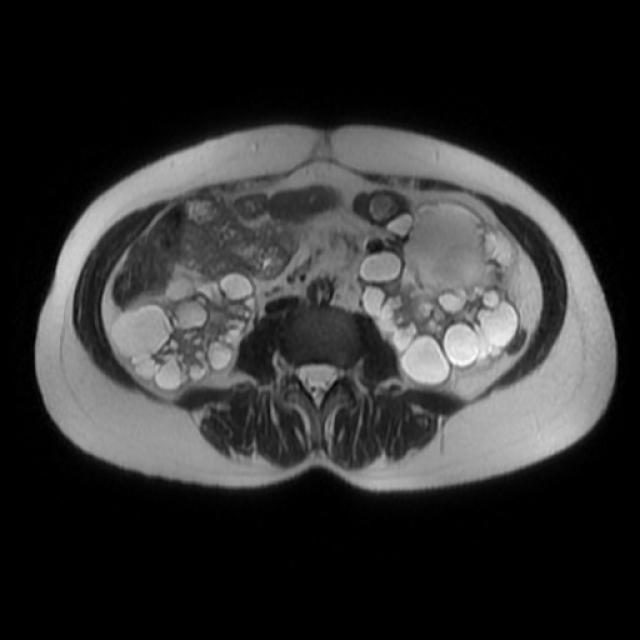sag: (107, 273, 258, 391)
sol: (358, 197, 520, 390)
